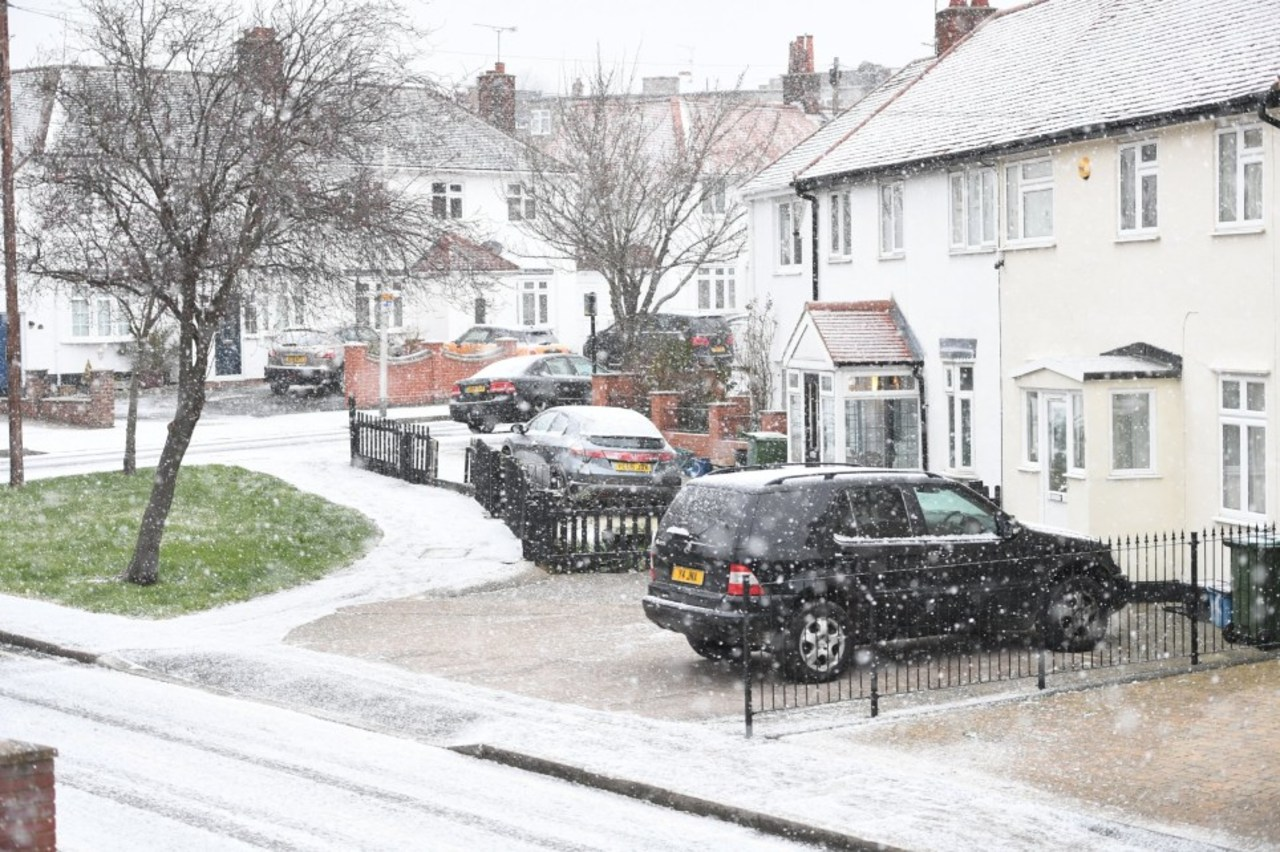car: (632, 461, 1149, 680), (504, 404, 682, 514), (446, 354, 603, 432), (585, 308, 732, 377), (262, 321, 384, 402)
